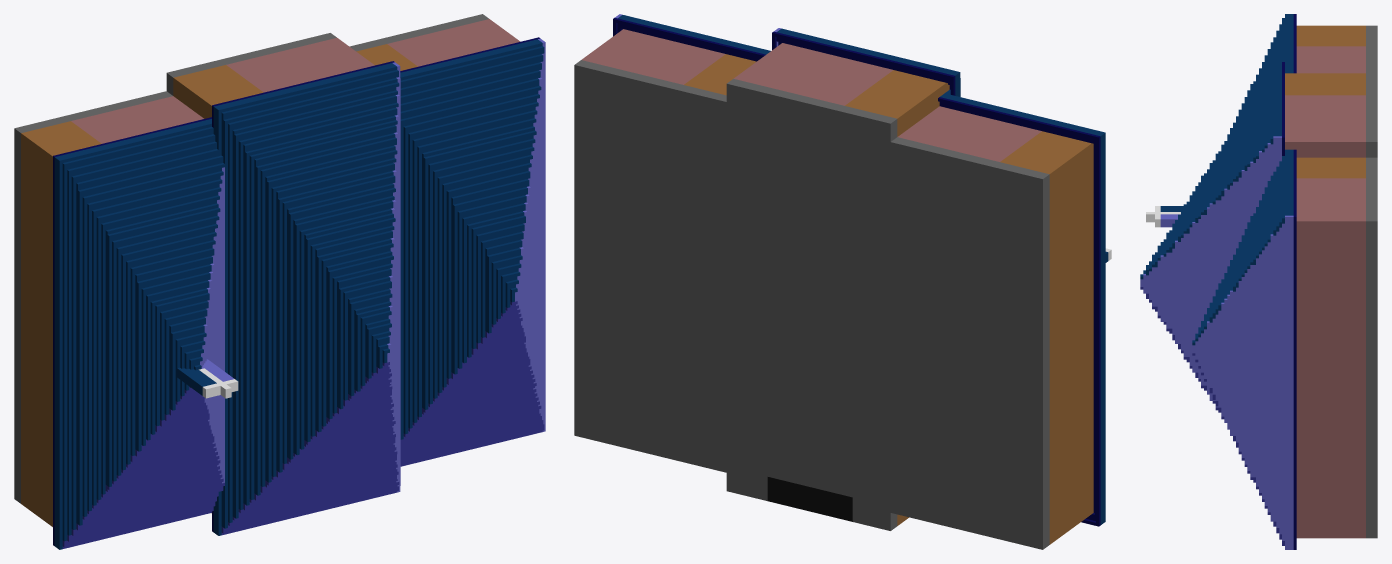
Rendered from blue_house_2.obj.
The picture shows the model from 3 angles, left to right: view 1: azimuth 30°, elevation 25°; view 2: azimuth 150°, elevation 25°; view 3: azimuth 270°, elevation 25°; orthographic projection. The views are drawn at different scales.
Size of the model in its own units: 16.6 by 13.9 by 8.2.
Materials: 1 (1 with a texture image).
